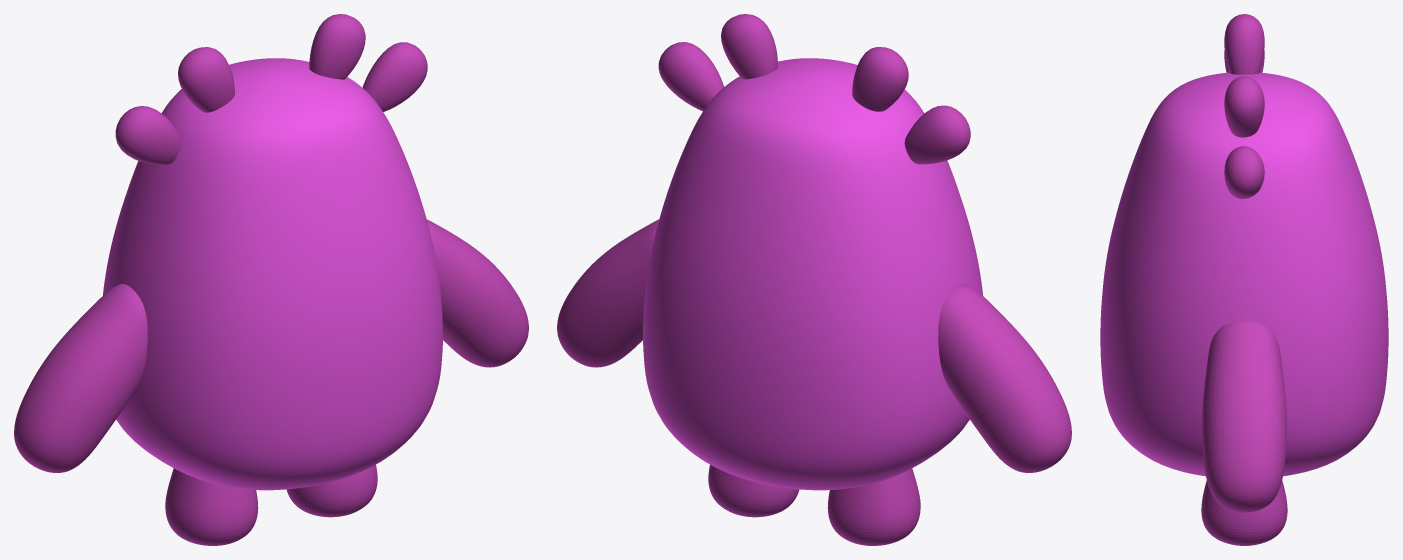
Rendered from oneEye.fbx.
3 renders of one model, left to right at view 1: azimuth 30°, elevation 25°; view 2: azimuth 150°, elevation 25°; view 3: azimuth 270°, elevation 25°, orthographic. The views are drawn at different scales.
Visible parts, largest first — view 1: OneEye, Arm_R, Arm_L, Leg_R, Ear_small_R, Ear_small_L, Ear_big_L, Ear_big_R, Leg_L; view 2: OneEye, Arm_R, Arm_L, Leg_R, Ear_small_L, Ear_small_R, Ear_big_L, Ear_big_R, Leg_L; view 3: OneEye, Arm_L, Leg_L, Ear_big_R, Ear_big_L, Ear_small_L.
Part boxes in pixels (x1,y1,x2,y2): OneEye: [103, 58, 442, 490]; Arm_R: [14, 284, 147, 472]; Arm_L: [426, 219, 528, 367]; Leg_R: [165, 468, 258, 545]; Ear_small_R: [115, 106, 181, 165]; Ear_small_L: [362, 42, 427, 111]; Ear_big_L: [309, 14, 365, 79]; Ear_big_R: [178, 47, 234, 112]; Leg_L: [286, 464, 377, 517]; OneEye: [643, 58, 982, 490]; Arm_R: [938, 284, 1071, 472]; Arm_L: [557, 219, 659, 367]; Leg_R: [827, 468, 920, 545]; Ear_small_L: [658, 42, 723, 111]; Ear_small_R: [904, 105, 970, 164]; Ear_big_L: [721, 14, 777, 79]; Ear_big_R: [852, 47, 908, 111]; Leg_L: [708, 464, 799, 517]; OneEye: [1100, 72, 1388, 476]; Arm_L: [1202, 320, 1286, 512]; Leg_L: [1201, 480, 1287, 545]; Ear_big_R: [1224, 14, 1264, 74]; Ear_big_L: [1224, 76, 1264, 137]; Ear_small_L: [1224, 146, 1264, 198].
Size of the model in its own units: 402 by 376 by 211.
